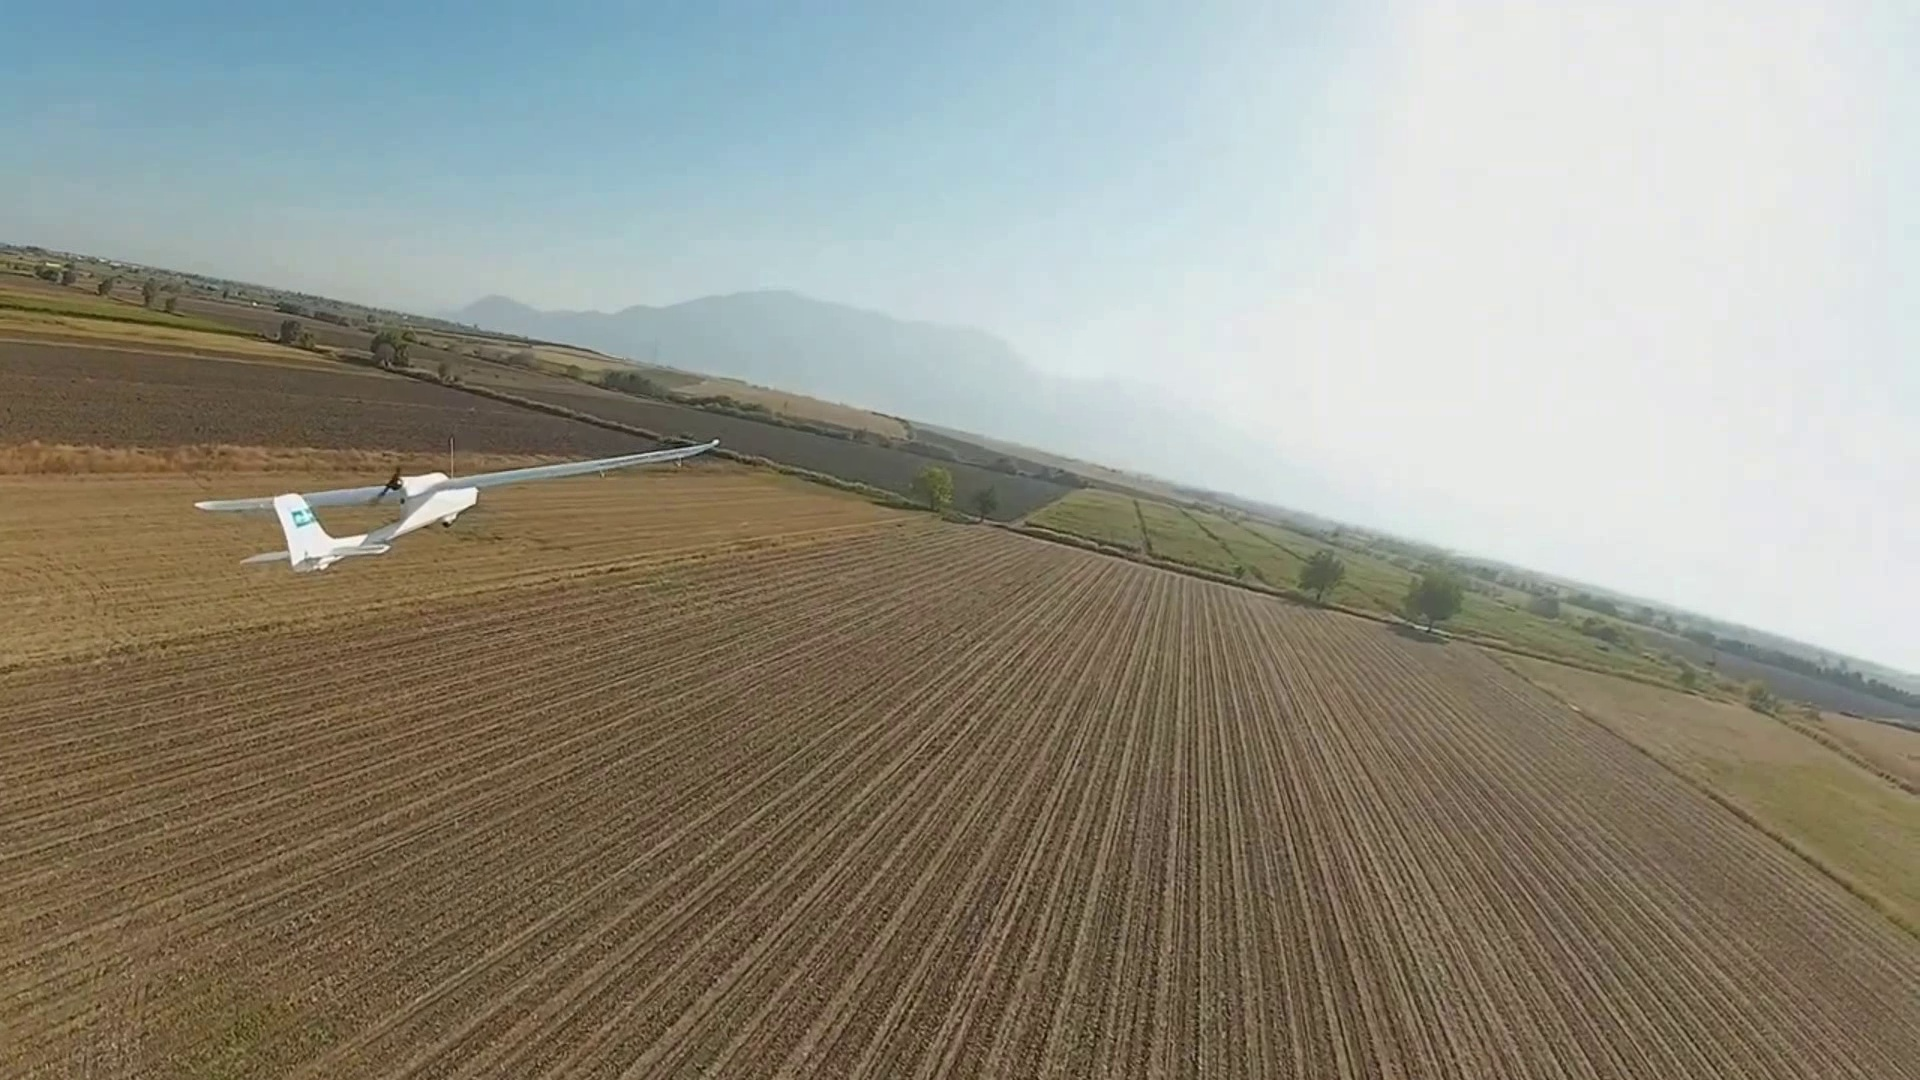airplane: (194, 436, 713, 572)
